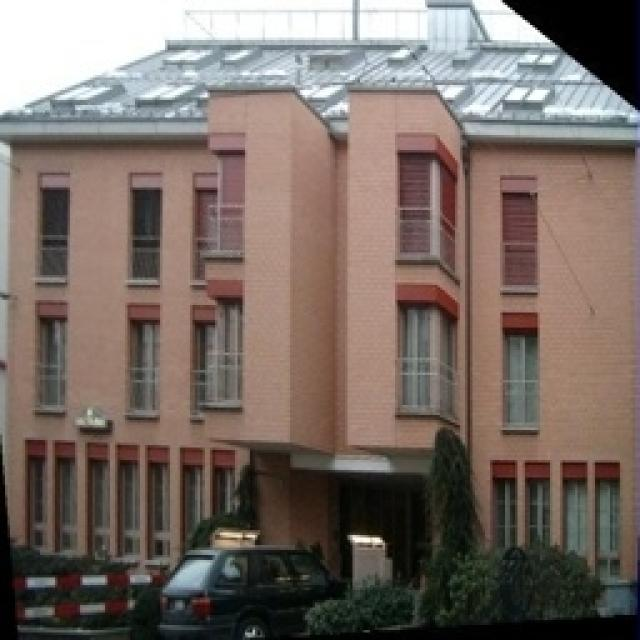building: (5, 23, 640, 625)
